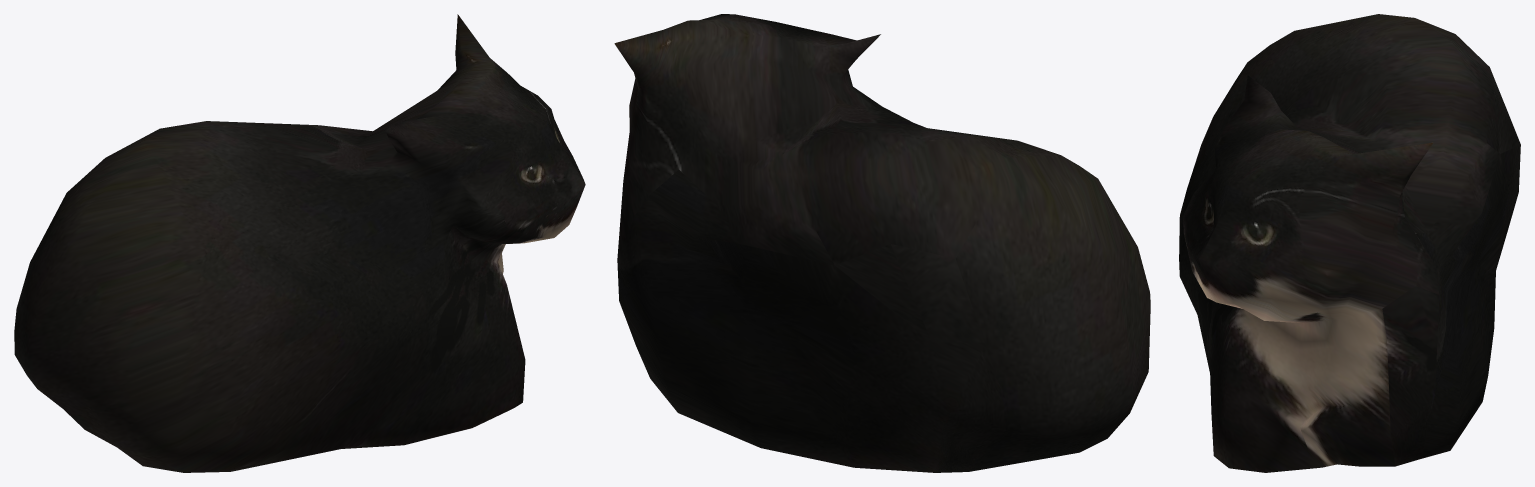
The model's file is max.obj.
3 renders of one model, left to right at view 1: azimuth 30°, elevation 25°; view 2: azimuth 150°, elevation 25°; view 3: azimuth 270°, elevation 25°, orthographic. The views are drawn at different scales.
Parts seen in each view (by area): view 1: dingus; view 2: dingus; view 3: dingus.
Part boxes in pixels (x1,y1,x2,y2): dingus: (14, 14, 585, 472); dingus: (614, 14, 1150, 472); dingus: (1179, 14, 1520, 472).
Size of the model in its own units: 29.82 by 19.21 by 16.49.
1 material, 1 textured.
